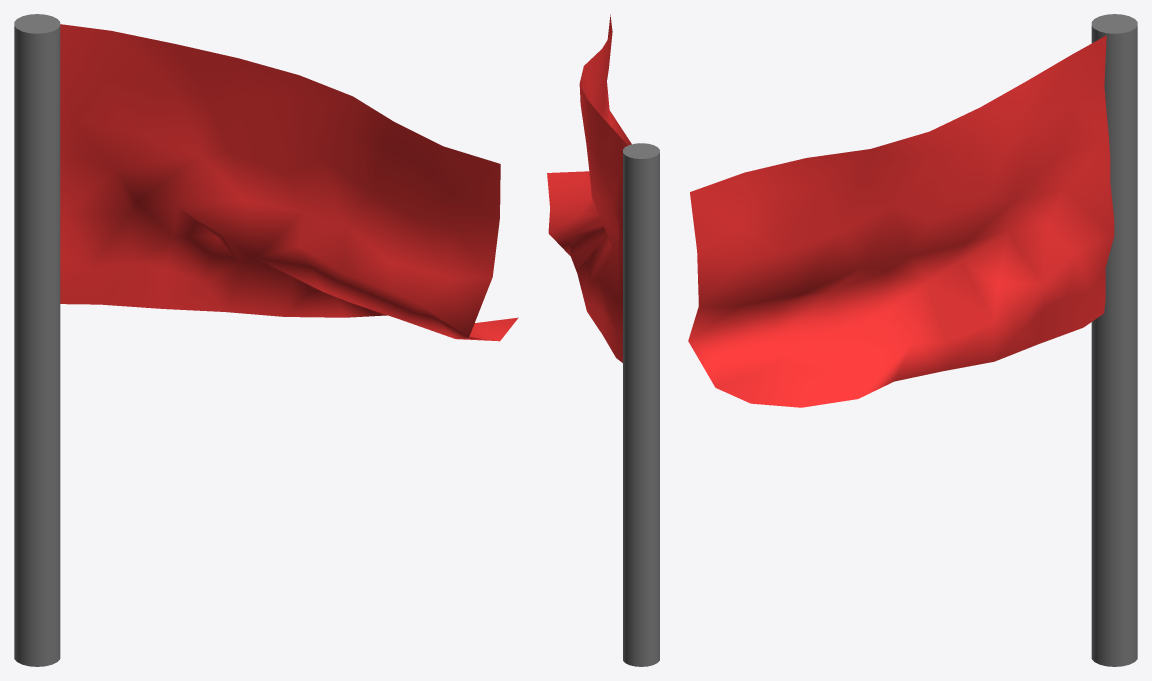
The model's file is flag.fbx.
3 views of the same model, side by side, from view 1: azimuth 30°, elevation 25°; view 2: azimuth 150°, elevation 25°; view 3: azimuth 270°, elevation 25° (orthographic). The views are drawn at different scales.
Parts seen in each view (by area): view 1: Rectangle001, Cylinder001; view 2: Cylinder001, Rectangle001; view 3: Rectangle001, Cylinder001.
Part boxes in pixels (<box>): Rectangle001: <box>60,24,518,341</box>; Cylinder001: <box>14,14,60,666</box>; Cylinder001: <box>623,143,659,666</box>; Rectangle001: <box>547,14,631,362</box>; Rectangle001: <box>688,35,1114,407</box>; Cylinder001: <box>1091,14,1137,666</box>.
Size of the model in its own units: 28.27 by 53.47 by 34.41.
